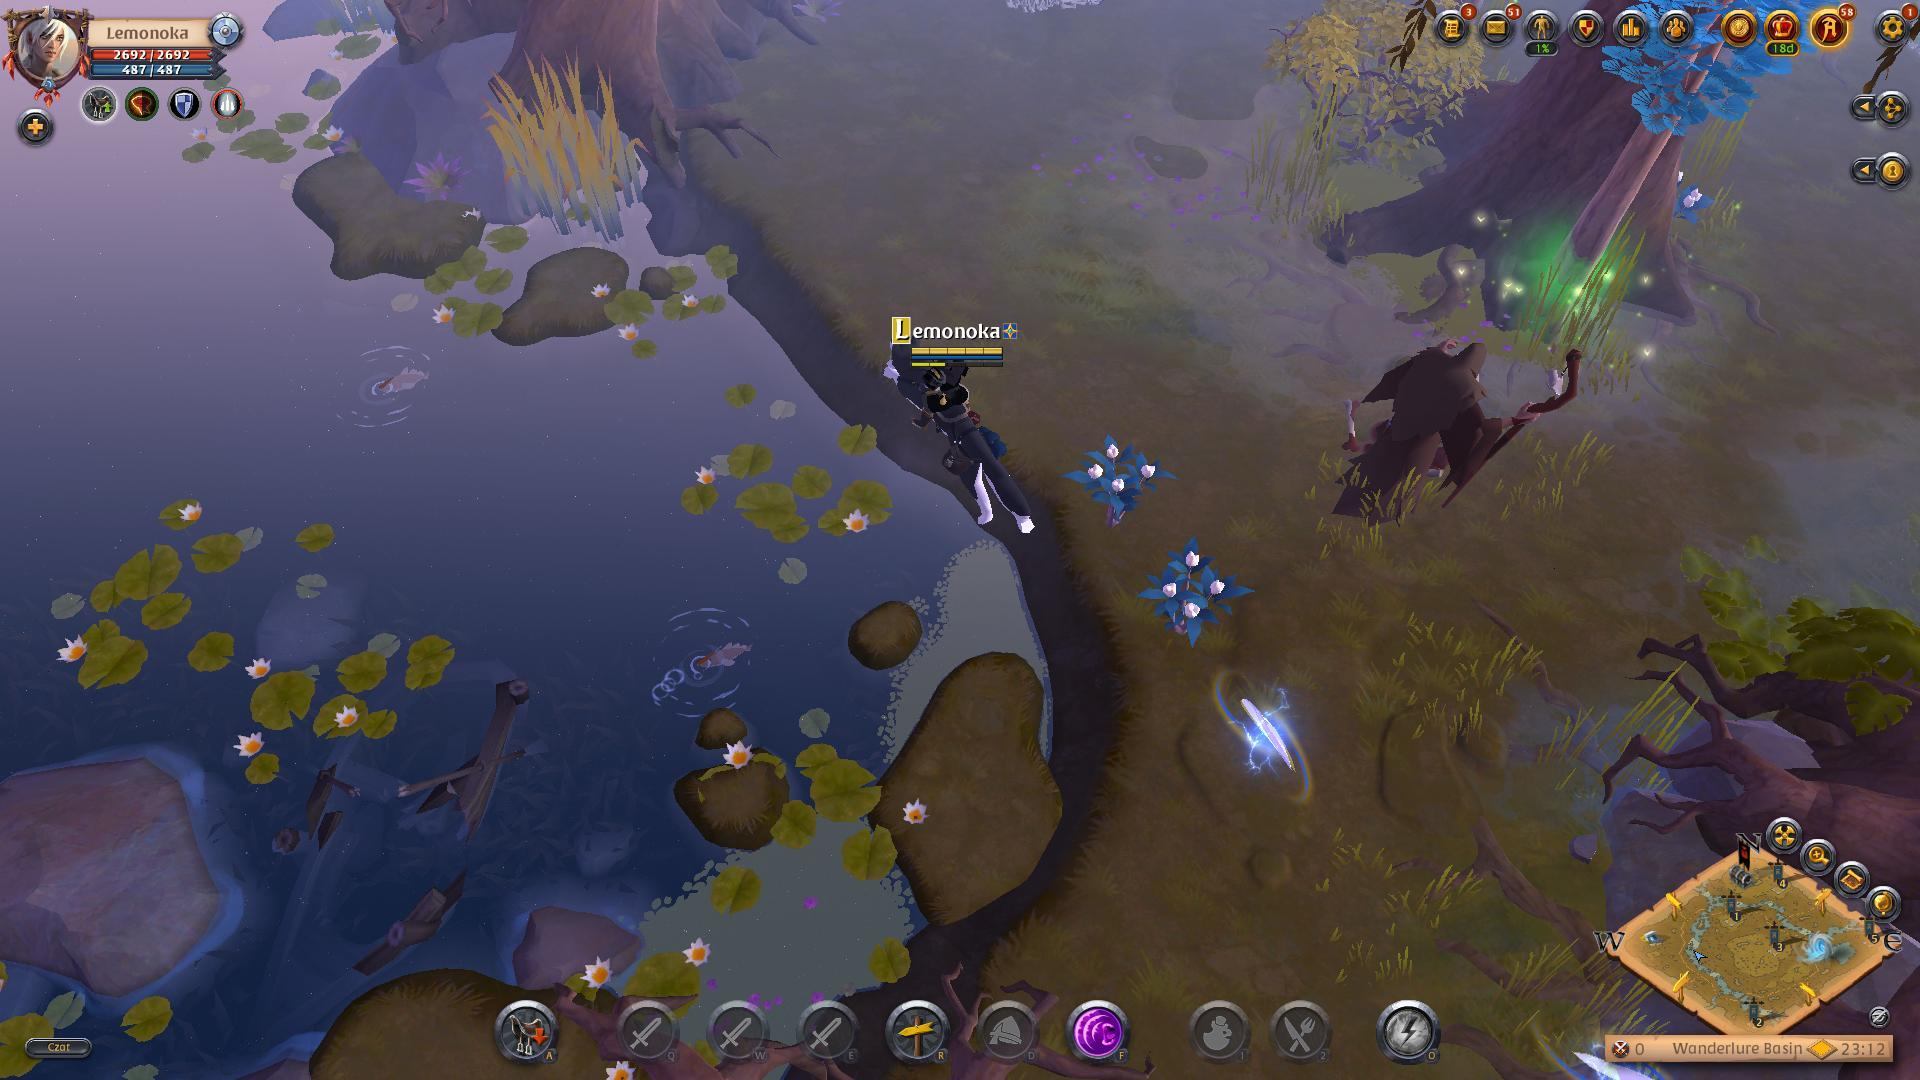fiber tier 4: (1135, 537, 1249, 646), (1068, 429, 1175, 530)
fish: (636, 601, 771, 724), (318, 335, 454, 442)
